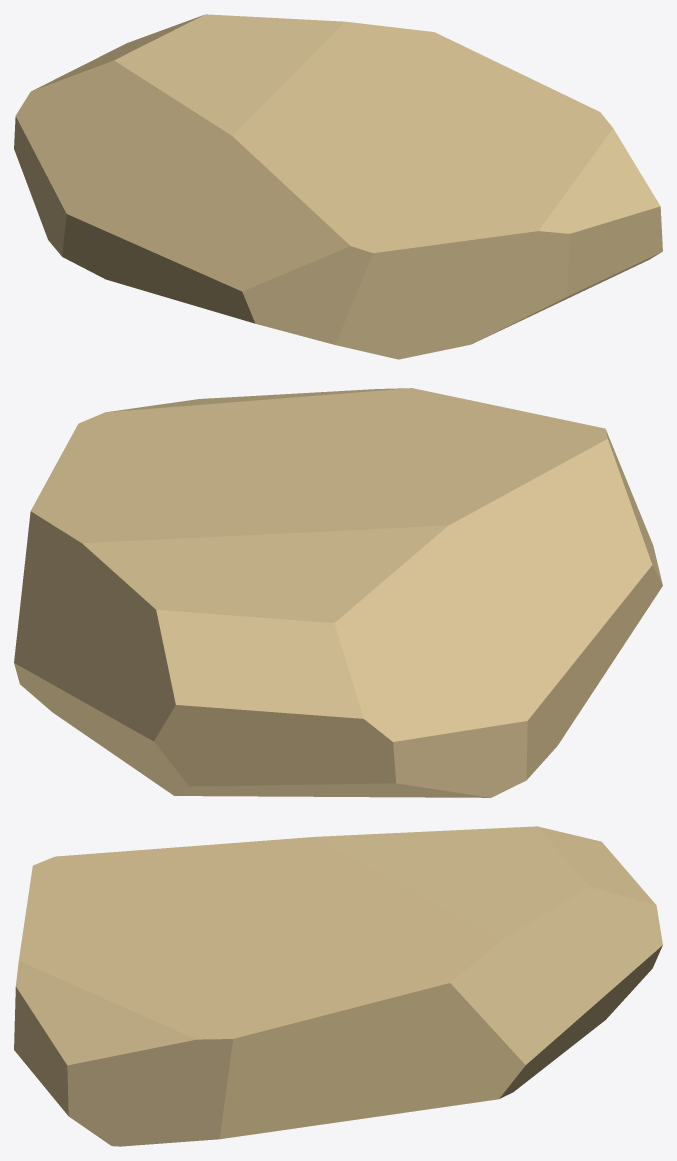
Rendered from Rock_Flat_m_02.fbx.
3 renders of one model, top to bottom at view 1: azimuth 30°, elevation 25°; view 2: azimuth 150°, elevation 25°; view 3: azimuth 270°, elevation 25°, orthographic. The views are drawn at different scales.
Parts seen in each view (by area): view 1: Rock_Flat_m_02; view 2: Rock_Flat_m_02; view 3: Rock_Flat_m_02.
Boxes of the visible parts, x1,y1,x2,y2 form: Rock_Flat_m_02: (14,14,662,359); Rock_Flat_m_02: (14,388,662,797); Rock_Flat_m_02: (14,826,662,1146).
Size of the model in its own units: 129 by 37.02 by 151.
